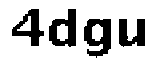4: (9, 5, 47, 49)
d: (45, 3, 78, 52)
g: (80, 15, 114, 60)
u: (115, 12, 149, 51)
